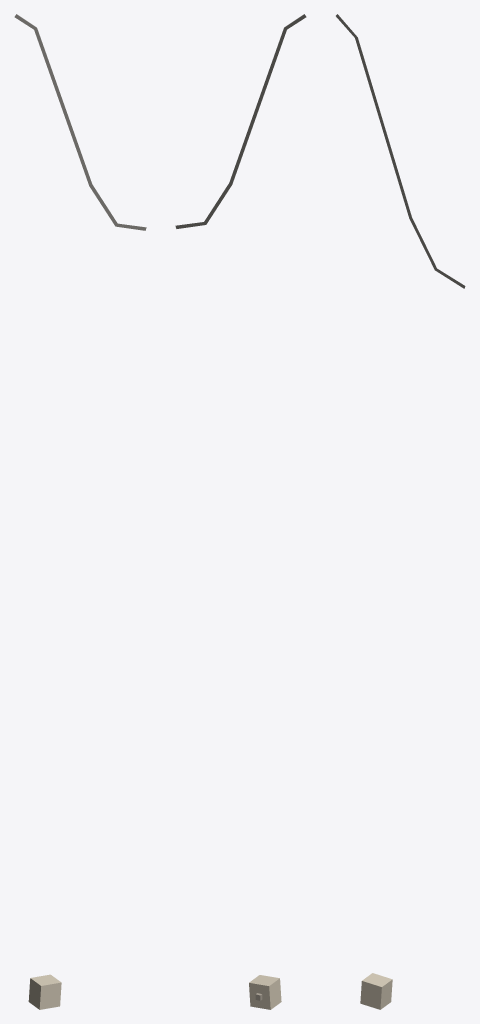
File: historic-palestine-07_01_3487_2954.glb
3 views of the same model, side by side, from view 1: azimuth 30°, elevation 25°; view 2: azimuth 150°, elevation 25°; view 3: azimuth 330°, elevation 25° (orthographic).
Parts seen in each view (by area): view 1: Road, Building_; view 2: Road, Building_; view 3: Road, Building_.
Boxes of the visible parts, x1=… form: Road: x1=14, y1=14, x2=146, y2=230; Building_: x1=28, y1=974, x2=61, y2=1009; Road: x1=175, y1=14, x2=306, y2=228; Building_: x1=249, y1=975, x2=281, y2=1009; Road: x1=336, y1=14, x2=465, y2=288; Building_: x1=360, y1=973, x2=392, y2=1009.
Bounding box in the file's own units: 52.33 × 379 × 8.7.
